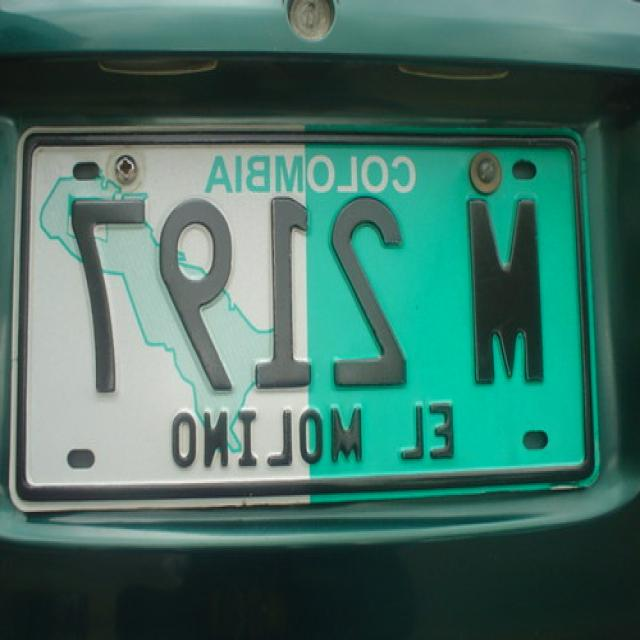placas: (55, 184, 576, 410)
